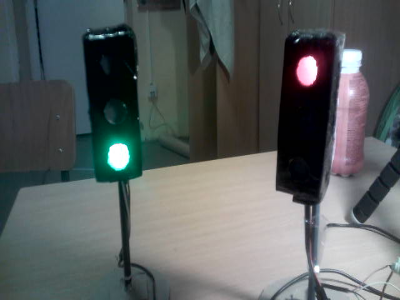trafficlight_green: (87, 31, 139, 177)
trafficlight_red: (275, 37, 337, 191)
